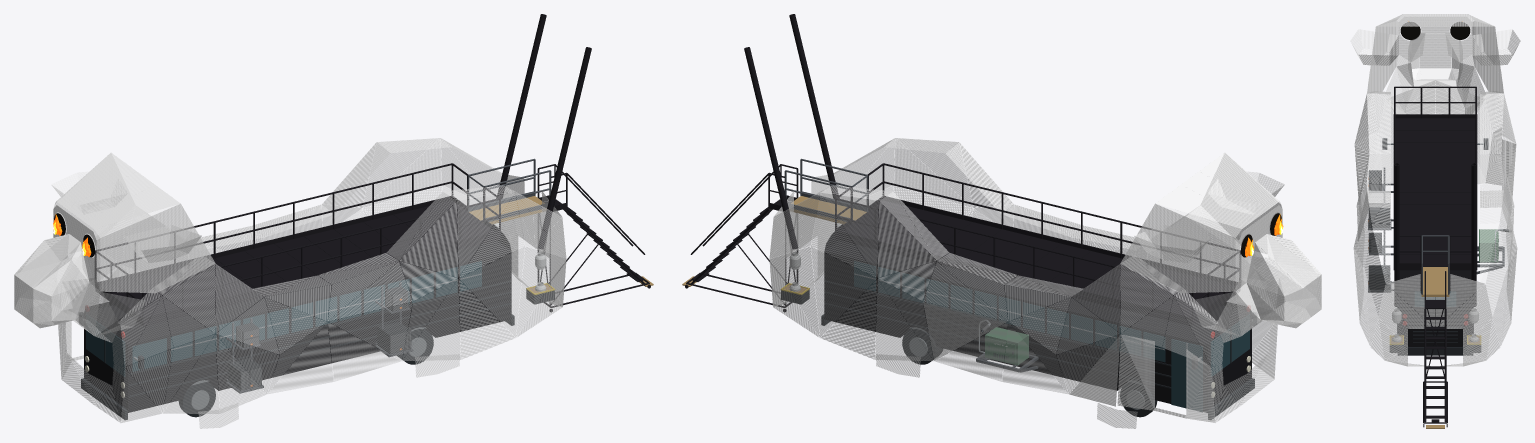
The model's file is baaabs-panelized-v21.glb.
3 views of the same model, side by side, from view 1: azimuth 30°, elevation 25°; view 2: azimuth 150°, elevation 25°; view 3: azimuth 270°, elevation 25° (orthographic). The views are drawn at different scales.
Visible parts, largest first — view 1: Bus__Body_96in_wide, H-D-014 | Driver head side upper, H-D-001 | Driver continuous side, B-D-054 | Driver Skirt 07 b, B-D-050 | Driver Skirt 05 b, B-D-051 | Driver Skirt 06 a, B-D-043 | Driver Skirt 02 a, B-D-038 | Driver Flank 07 b, B-D-036 | Driver Flank 06 b, B-D-053 | Driver Skirt 07 a, B-D-049 | Driver Skirt 05 a, B-D-047 | Driver Skirt 04 a (+74 smaller); view 2: Bus__Body_96in_wide, H-P-014 | Passenger head side upper, H-P-001 | Passenger continuous side, B-P-062 | Passenger Skirt 07 b, B-P-058 | Passenger Skirt 05 b, B-P-059 | Passenger Skirt 06 a, B-P-046 | Passenger Flank 07 b, B-P-044 | Passenger Flank 06 b, B-P-061 | Passenger Skirt 07 a, B-P-057 | Passenger Skirt 05 a, B-P-055 | Passenger Skirt 04 a, B-D-038 | Driver Flank 07 b (+76 smaller); view 3: Bus__Body_96in_wide, Bus__Rear_engine_hatch, Dancefloor_section_01, Dancefloor_section_02, Dancefloor_section_03, Dancefloor_section_04, B-D-059 | Driver Rear surround 06 a, B-P-015 | Passenger Rear surround 05 a, Dancefloor_section_06, Dancefloor_section_09, Dancefloor_section_05, Dancefloor_section_07 (+120 smaller).
Part boxes in pixels (x1,y1,x2,y2): Bus__Body_96in_wide: (84, 240, 511, 412); H-D-014 | Driver head side upper: (100, 203, 207, 259); H-D-001 | Driver continuous side: (100, 249, 215, 293); B-D-054 | Driver Skirt 07 b: (459, 246, 524, 336); B-D-050 | Driver Skirt 05 b: (329, 302, 412, 360); B-D-051 | Driver Skirt 06 a: (403, 280, 460, 360); B-D-043 | Driver Skirt 02 a: (163, 335, 219, 413); B-D-038 | Driver Flank 07 b: (457, 193, 514, 276); B-D-036 | Driver Flank 06 b: (399, 201, 458, 277); B-D-053 | Driver Skirt 07 a: (458, 279, 515, 359); B-D-049 | Driver Skirt 05 a: (328, 322, 400, 381); B-D-047 | Driver Skirt 04 a: (268, 322, 333, 393); Bus__Body_96in_wide: (824, 240, 1251, 412); H-P-014 | Passenger head side upper: (1128, 203, 1235, 259); H-P-001 | Passenger continuous side: (1120, 249, 1235, 293); B-P-062 | Passenger Skirt 07 b: (811, 246, 876, 336); B-P-058 | Passenger Skirt 05 b: (923, 302, 1007, 360); B-P-059 | Passenger Skirt 06 a: (875, 280, 932, 360); B-P-046 | Passenger Flank 07 b: (821, 193, 878, 276); B-P-044 | Passenger Flank 06 b: (877, 201, 936, 277); B-P-061 | Passenger Skirt 07 a: (820, 279, 877, 359); B-P-057 | Passenger Skirt 05 a: (935, 322, 1007, 381); B-P-055 | Passenger Skirt 04 a: (1002, 322, 1067, 393); B-D-038 | Driver Flank 07 b: (896, 138, 972, 206); Bus__Body_96in_wide: (1397, 270, 1473, 346); Bus__Rear_engine_hatch: (1408, 321, 1462, 346); Dancefloor_section_01: (1393, 118, 1477, 130); Dancefloor_section_02: (1393, 130, 1477, 142); Dancefloor_section_03: (1393, 143, 1477, 155); Dancefloor_section_04: (1393, 155, 1477, 167); B-D-059 | Driver Rear surround 06 a: (1386, 274, 1435, 326); B-P-015 | Passenger Rear surround 05 a: (1435, 274, 1484, 326); Dancefloor_section_06: (1393, 180, 1477, 192); Dancefloor_section_09: (1393, 217, 1477, 229); Dancefloor_section_05: (1393, 167, 1477, 179); Dancefloor_section_07: (1393, 192, 1477, 204).
Size of the model in its own units: 19.95 by 8.42 by 5.52.
232 materials, 206 textured.
